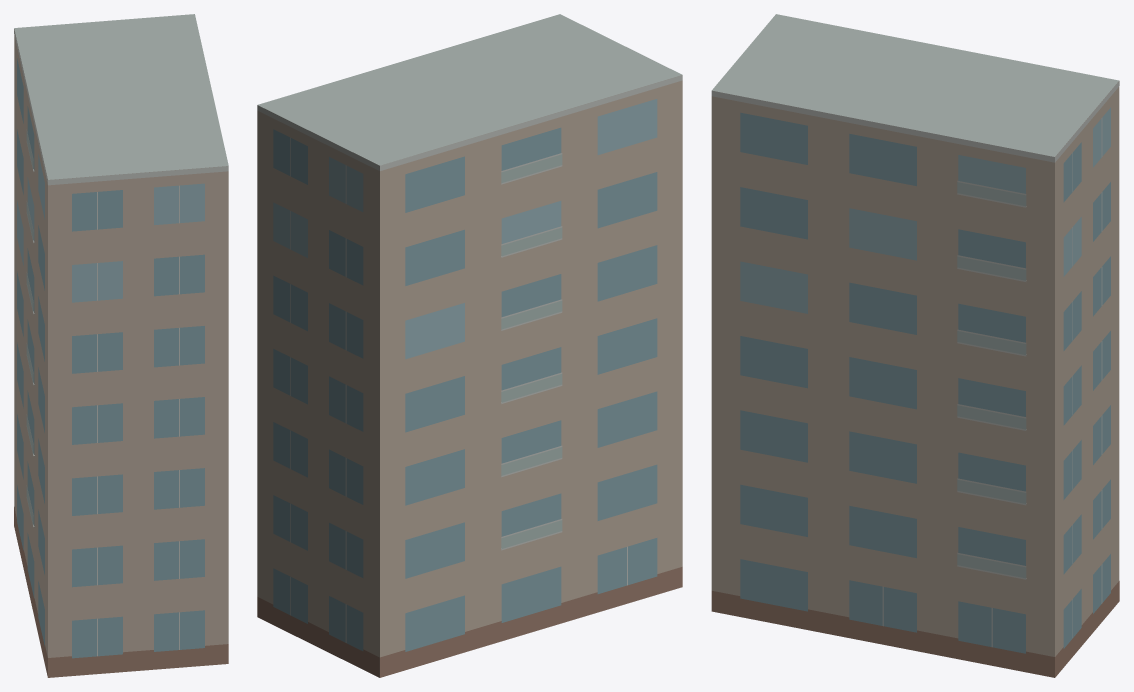
The model's file is survey-upis-32567535.glb.
3 views of the same model, side by side, from view 1: azimuth 30°, elevation 25°; view 2: azimuth 150°, elevation 25°; view 3: azimuth 270°, elevation 25° (orthographic). The views are drawn at different scales.
Visible parts, largest first — view 1: survey-upis-32567535.tmp; view 2: survey-upis-32567535.tmp; view 3: survey-upis-32567535.tmp.
Boxes of the visible parts, <box> form: survey-upis-32567535.tmp: <box>14,14,228,677</box>; survey-upis-32567535.tmp: <box>257,14,682,677</box>; survey-upis-32567535.tmp: <box>711,14,1119,677</box>.
Bounding box in the file's own units: 13.26 × 22.5 × 15.98.
